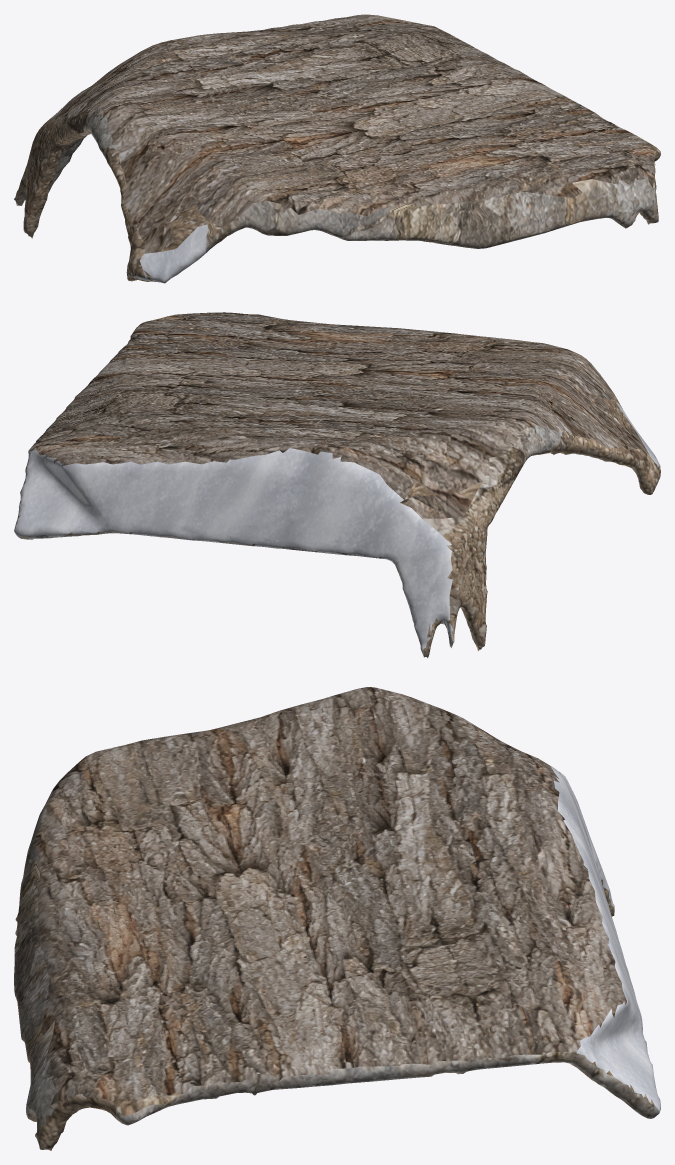
File: CW_LayeredRock_A_SnowCover_LOD1.fbx
3 renders of one model, top to bottom at view 1: azimuth 30°, elevation 25°; view 2: azimuth 150°, elevation 25°; view 3: azimuth 270°, elevation 25°, orthographic. The views are drawn at different scales.
Parts seen in each view (by area): view 1: CW_LayeredRock_A_SnowCover_LOD1; view 2: CW_LayeredRock_A_SnowCover_LOD1; view 3: CW_LayeredRock_A_SnowCover_LOD1.
Boxes of the visible parts, x1,y1,x2,y2 form: CW_LayeredRock_A_SnowCover_LOD1: (14, 14, 660, 283); CW_LayeredRock_A_SnowCover_LOD1: (14, 312, 660, 658); CW_LayeredRock_A_SnowCover_LOD1: (14, 687, 660, 1150).
Bounding box in the file's own units: 4.1 × 1.31 × 3.26.
